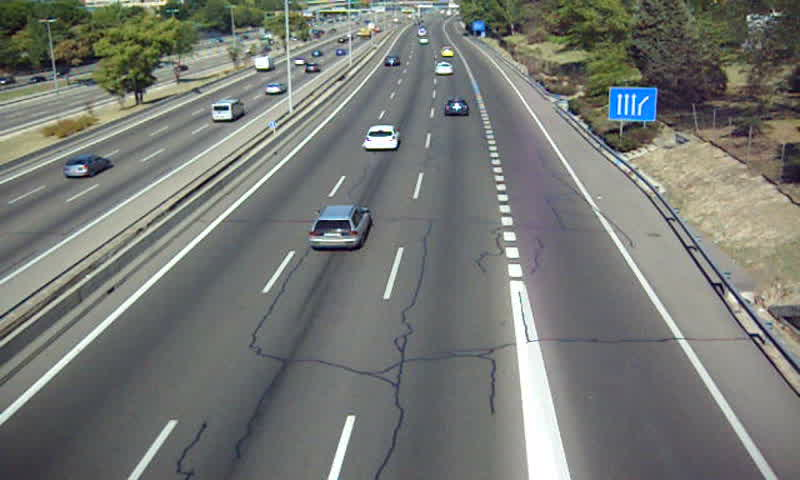car: (310, 204, 372, 252), (362, 125, 400, 152), (444, 97, 469, 117), (436, 62, 455, 76), (382, 55, 400, 67)
